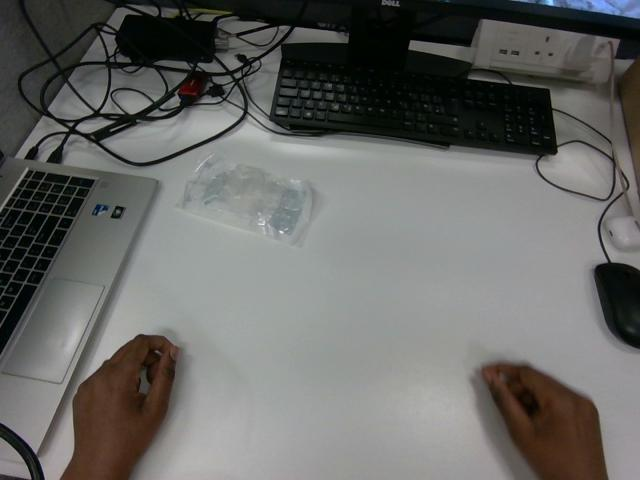gallipot: (181, 154, 311, 244)
